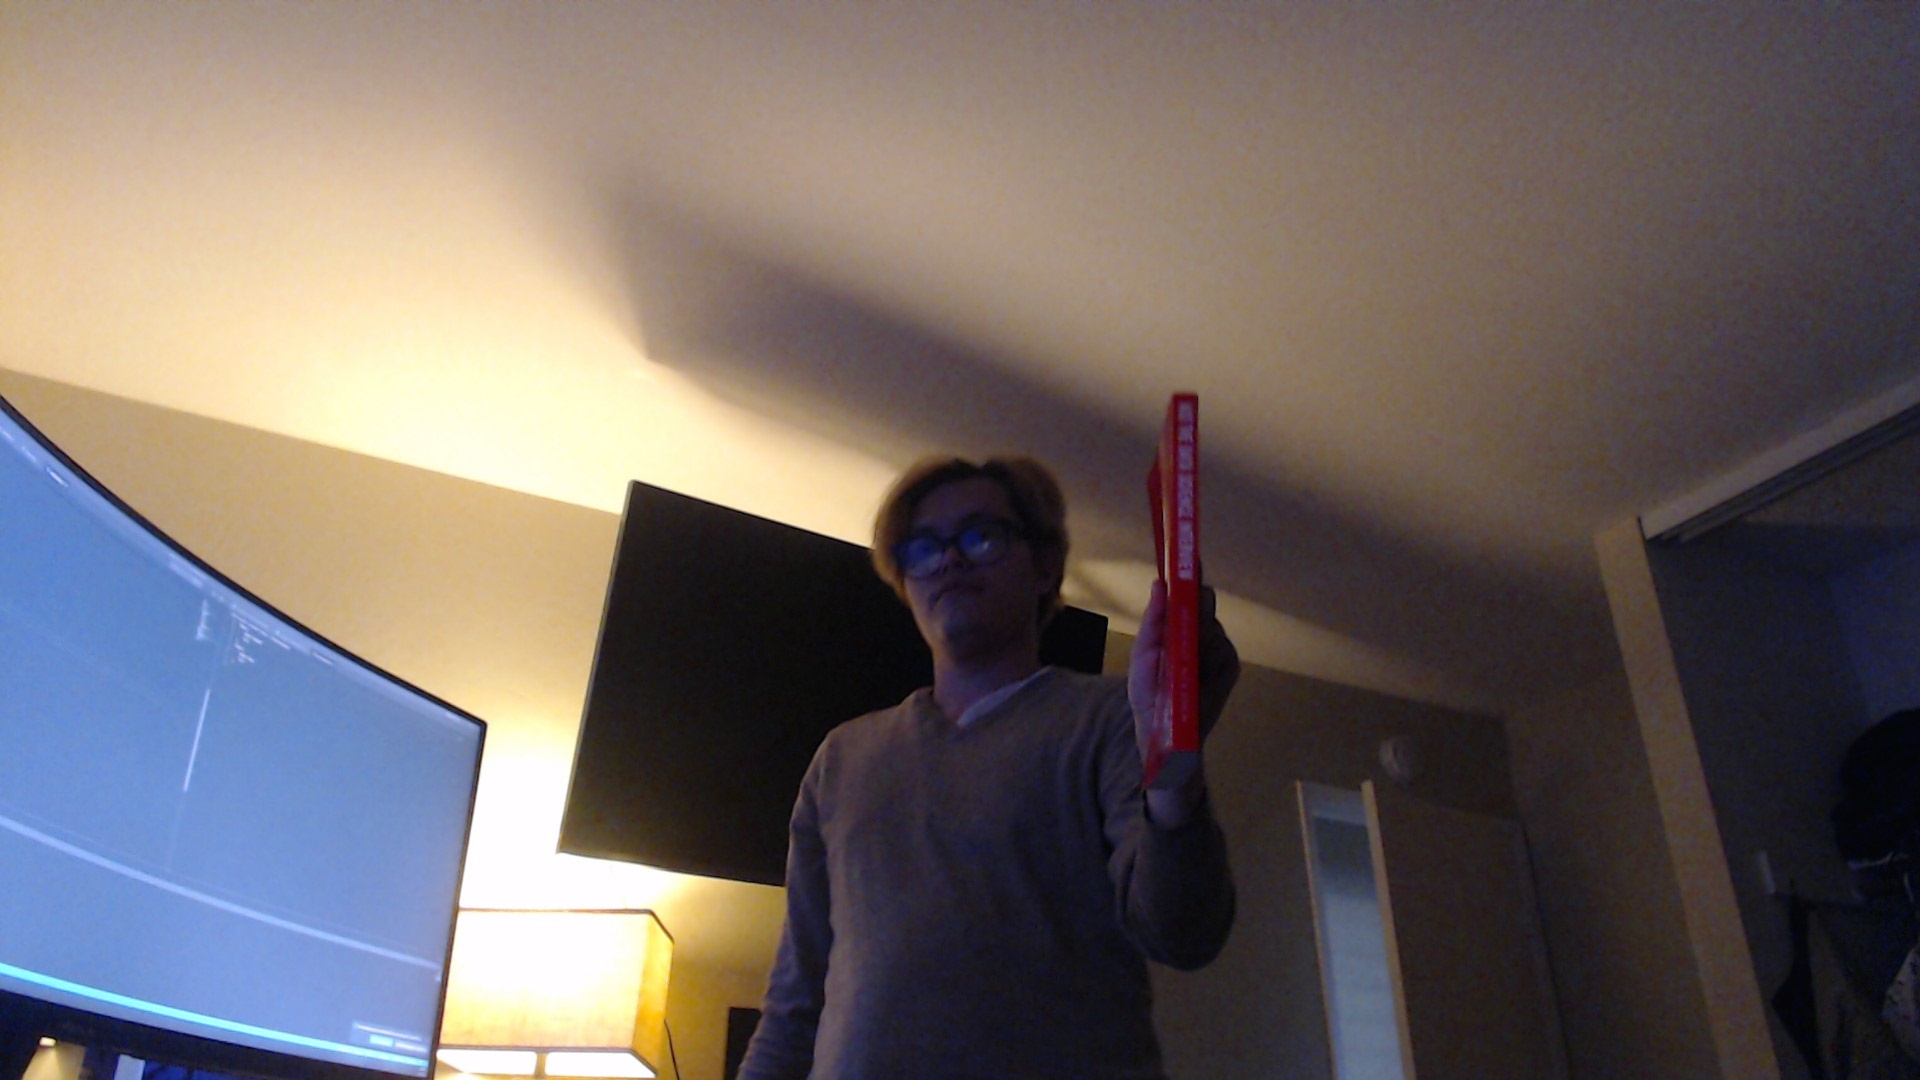book: (1145, 392, 1204, 795)
